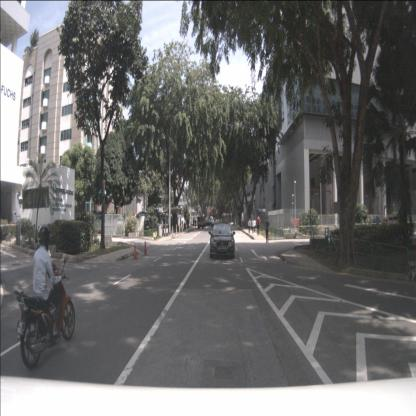cone: (133, 242, 138, 260), (143, 240, 148, 256)
